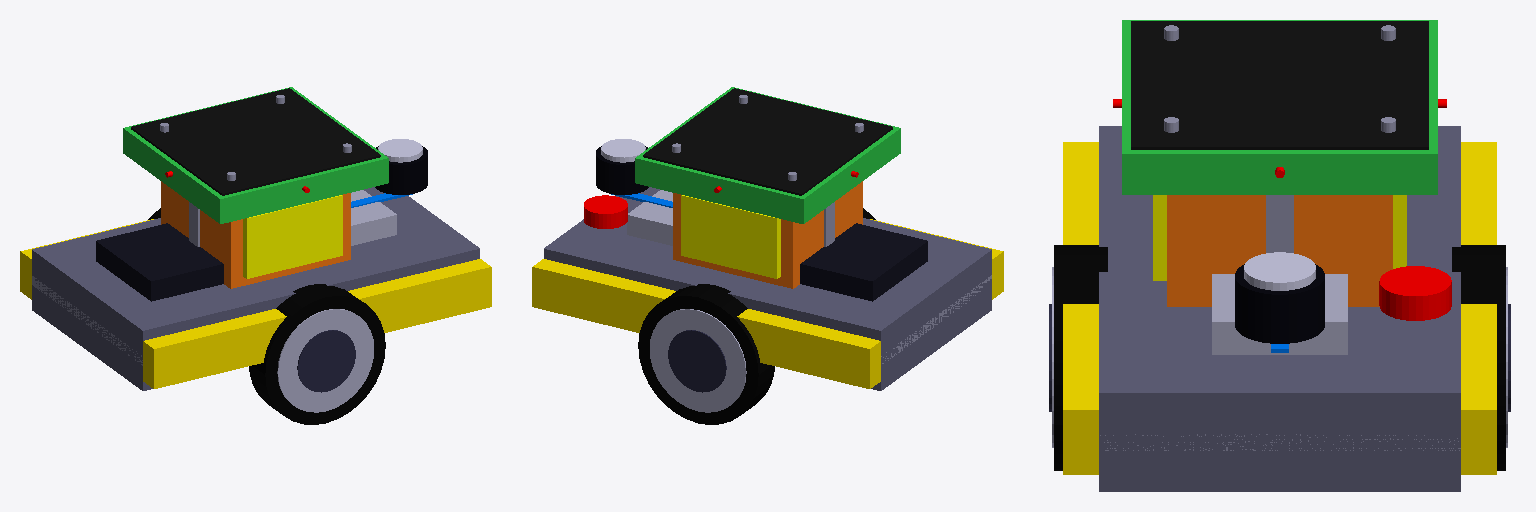
The robot description file, URDF, robot "wheeled_robot":
<?xml version="1.0"?>
<robot name="wheeled_robot">

  <!-- Industrial Base Platform with Advanced Features -->
  <link name="base_link">
    <!-- Main chassis structure -->
    <visual>
      <origin xyz="0 0 0.06" rpy="0 0 0"/>
      <geometry>
        <box size="0.7 0.4 0.12"/>
      </geometry>
      <material name="chassis_industrial">
        <color rgba="0.4 0.4 0.5 1.0"/>
      </material>
    </visual>
    
    <!-- Reinforcement frame -->
    <visual>
      <origin xyz="0.32 0 0.06" rpy="0 0 0"/>
      <geometry>
        <box size="0.06 0.4 0.02"/>
      </geometry>
      <material name="frame_steel">
        <color rgba="0.6 0.6 0.7 1.0"/>
      </material>
    </visual>
    
    <visual>
      <origin xyz="-0.32 0 0.06" rpy="0 0 0"/>
      <geometry>
        <box size="0.06 0.4 0.02"/>
      </geometry>
      <material name="frame_steel">
        <color rgba="0.6 0.6 0.7 1.0"/>
      </material>
    </visual>
    
    <!-- Side protection rails -->
    <visual>
      <origin xyz="0 0.22 0.06" rpy="0 0 0"/>
      <geometry>
        <box size="0.7 0.04 0.08"/>
      </geometry>
      <material name="safety_yellow">
        <color rgba="1.0 0.9 0.0 1.0"/>
      </material>
    </visual>
    
    <visual>
      <origin xyz="0 -0.22 0.06" rpy="0 0 0"/>
      <geometry>
        <box size="0.7 0.04 0.08"/>
      </geometry>
      <material name="safety_yellow">
        <color rgba="1.0 0.9 0.0 1.0"/>
      </material>
    </visual>
    
    <!-- Battery compartment -->
    <visual>
      <origin xyz="-0.15 0 0.14" rpy="0 0 0"/>
      <geometry>
        <box size="0.25 0.2 0.04"/>
      </geometry>
      <material name="battery_housing">
        <color rgba="0.1 0.1 0.15 1.0"/>
      </material>
    </visual>
    
    <!-- Control electronics housing -->
    <visual>
      <origin xyz="0.15 0 0.14" rpy="0 0 0"/>
      <geometry>
        <box size="0.2 0.15 0.04"/>
      </geometry>
      <material name="electronics_silver">
        <color rgba="0.7 0.7 0.8 1.0"/>
      </material>
    </visual>
    
    <!-- Status LED strip -->
    <visual>
      <origin xyz="0.25 0 0.16" rpy="0 0 0"/>
      <geometry>
        <box size="0.15 0.02 0.005"/>
      </geometry>
      <material name="led_strip_blue">
        <color rgba="0.0 0.5 1.0 1.0"/>
      </material>
    </visual>
    
    <collision>
      <origin xyz="0 0 0.06" rpy="0 0 0"/>
      <geometry>
        <box size="0.7 0.4 0.12"/>
      </geometry>
    </collision>
    <inertial>
      <origin xyz="0 0 0.06" rpy="0 0 0"/>
      <mass value="18.0"/>
      <inertia ixx="0.5" ixy="0" ixz="0" 
               iyy="1.2" iyz="0" 
               izz="1.5"/>
    </inertial>
  </link>

  <!-- Advanced Drive Wheels with Motor Integration -->
  <link name="left_wheel">
    <!-- Main tire with aggressive tread -->
    <visual>
      <origin xyz="0 0 0" rpy="1.57 0 0"/>
      <geometry>
        <cylinder radius="0.125" length="0.06"/>
      </geometry>
      <material name="tire_industrial">
        <color rgba="0.05 0.05 0.05 1.0"/>
      </material>
    </visual>
    
    <!-- Reinforced rim -->
    <visual>
      <origin xyz="0 0 0" rpy="1.57 0 0"/>
      <geometry>
        <cylinder radius="0.1" length="0.065"/>
      </geometry>
      <material name="rim_aluminum">
        <color rgba="0.7 0.7 0.8 1.0"/>
      </material>
    </visual>
    
    <!-- Hub motor housing -->
    <visual>
      <origin xyz="0 0 0" rpy="1.57 0 0"/>
      <geometry>
        <cylinder radius="0.06" length="0.07"/>
      </geometry>
      <material name="motor_housing">
        <color rgba="0.2 0.2 0.3 1.0"/>
      </material>
    </visual>
    
    <!-- Motor cooling fins -->
    <visual>
      <origin xyz="0 0 0.04" rpy="1.57 0 0"/>
      <geometry>
        <cylinder radius="0.08" length="0.005"/>
      </geometry>
      <material name="cooling_fins">
        <color rgba="0.5 0.5 0.6 1.0"/>
      </material>
    </visual>
    
    <visual>
      <origin xyz="0 0 -0.04" rpy="1.57 0 0"/>
      <geometry>
        <cylinder radius="0.08" length="0.005"/>
      </geometry>
      <material name="cooling_fins">
        <color rgba="0.5 0.5 0.6 1.0"/>
      </material>
    </visual>
    
    <!-- Wheel encoder -->
    <visual>
      <origin xyz="0 0 0.038" rpy="1.57 0 0"/>
      <geometry>
        <cylinder radius="0.04" length="0.008"/>
      </geometry>
      <material name="encoder_gold">
        <color rgba="0.8 0.7 0.2 1.0"/>
      </material>
    </visual>
    
    <collision>
      <origin xyz="0 0 0" rpy="1.57 0 0"/>
      <geometry>
        <cylinder radius="0.125" length="0.06"/>
      </geometry>
    </collision>
    <inertial>
      <origin xyz="0 0 0" rpy="0 0 0"/>
      <mass value="3.5"/>
      <inertia ixx="0.03" ixy="0" ixz="0" 
               iyy="0.03" iyz="0" 
               izz="0.03"/>
    </inertial>
  </link>

  <!-- Right wheel - identical to left -->
  <link name="right_wheel">
    <visual>
      <origin xyz="0 0 0" rpy="1.57 0 0"/>
      <geometry>
        <cylinder radius="0.125" length="0.06"/>
      </geometry>
      <material name="tire_industrial">
        <color rgba="0.05 0.05 0.05 1.0"/>
      </material>
    </visual>
    <visual>
      <origin xyz="0 0 0" rpy="1.57 0 0"/>
      <geometry>
        <cylinder radius="0.1" length="0.065"/>
      </geometry>
      <material name="rim_aluminum">
        <color rgba="0.7 0.7 0.8 1.0"/>
      </material>
    </visual>
    <visual>
      <origin xyz="0 0 0" rpy="1.57 0 0"/>
      <geometry>
        <cylinder radius="0.06" length="0.07"/>
      </geometry>
      <material name="motor_housing">
        <color rgba="0.2 0.2 0.3 1.0"/>
      </material>
    </visual>
    <visual>
      <origin xyz="0 0 0.04" rpy="1.57 0 0"/>
      <geometry>
        <cylinder radius="0.08" length="0.005"/>
      </geometry>
      <material name="cooling_fins">
        <color rgba="0.5 0.5 0.6 1.0"/>
      </material>
    </visual>
    <visual>
      <origin xyz="0 0 -0.04" rpy="1.57 0 0"/>
      <geometry>
        <cylinder radius="0.08" length="0.005"/>
      </geometry>
      <material name="cooling_fins">
        <color rgba="0.5 0.5 0.6 1.0"/>
      </material>
    </visual>
    <visual>
      <origin xyz="0 0 0.038" rpy="1.57 0 0"/>
      <geometry>
        <cylinder radius="0.04" length="0.008"/>
      </geometry>
      <material name="encoder_gold">
        <color rgba="0.8 0.7 0.2 1.0"/>
      </material>
    </visual>
    <collision>
      <origin xyz="0 0 0" rpy="1.57 0 0"/>
      <geometry>
        <cylinder radius="0.125" length="0.06"/>
      </geometry>
    </collision>
    <inertial>
      <origin xyz="0 0 0" rpy="0 0 0"/>
      <mass value="3.5"/>
      <inertia ixx="0.03" ixy="0" ixz="0" 
               iyy="0.03" iyz="0" 
               izz="0.03"/>
    </inertial>
  </link>

  <!-- Professional Lifting Mechanism Base -->
  <link name="lift_base">
    <!-- Main lift tower structure -->
    <visual>
      <origin xyz="0 0 0.08" rpy="0 0 0"/>
      <geometry>
        <box size="0.25 0.25 0.16"/>
      </geometry>
      <material name="lift_orange">
        <color rgba="1.0 0.5 0.1 1.0"/>
      </material>
    </visual>
    
    <!-- Hydraulic cylinder housings -->
    <visual>
      <origin xyz="0.08 0.08 0.08" rpy="0 0 0"/>
      <geometry>
        <cylinder radius="0.025" length="0.16"/>
      </geometry>
      <material name="hydraulic_steel">
        <color rgba="0.4 0.4 0.5 1.0"/>
      </material>
    </visual>
    
    <visual>
      <origin xyz="-0.08 0.08 0.08" rpy="0 0 0"/>
      <geometry>
        <cylinder radius="0.025" length="0.16"/>
      </geometry>
      <material name="hydraulic_steel">
        <color rgba="0.4 0.4 0.5 1.0"/>
      </material>
    </visual>
    
    <visual>
      <origin xyz="0.08 -0.08 0.08" rpy="0 0 0"/>
      <geometry>
        <cylinder radius="0.025" length="0.16"/>
      </geometry>
      <material name="hydraulic_steel">
        <color rgba="0.4 0.4 0.5 1.0"/>
      </material>
    </visual>
    
    <visual>
      <origin xyz="-0.08 -0.08 0.08" rpy="0 0 0"/>
      <geometry>
        <cylinder radius="0.025" length="0.16"/>
      </geometry>
      <material name="hydraulic_steel">
        <color rgba="0.4 0.4 0.5 1.0"/>
      </material>
    </visual>
    
    <!-- Guide rails -->
    <visual>
      <origin xyz="0.12 0 0.08" rpy="0 0 0"/>
      <geometry>
        <box size="0.02 0.03 0.16"/>
      </geometry>
      <material name="guide_rail">
        <color rgba="0.6 0.6 0.7 1.0"/>
      </material>
    </visual>
    
    <visual>
      <origin xyz="-0.12 0 0.08" rpy="0 0 0"/>
      <geometry>
        <box size="0.02 0.03 0.16"/>
      </geometry>
      <material name="guide_rail">
        <color rgba="0.6 0.6 0.7 1.0"/>
      </material>
    </visual>
    
    <!-- Safety markings -->
    <visual>
      <origin xyz="0 0.13 0.08" rpy="0 0 0"/>
      <geometry>
        <box size="0.2 0.02 0.12"/>
      </geometry>
      <material name="safety_stripe">
        <color rgba="1.0 1.0 0.0 1.0"/>
      </material>
    </visual>
    
    <visual>
      <origin xyz="0 -0.13 0.08" rpy="0 0 0"/>
      <geometry>
        <box size="0.2 0.02 0.12"/>
      </geometry>
      <material name="safety_stripe">
        <color rgba="1.0 1.0 0.0 1.0"/>
      </material>
    </visual>
    
    <collision>
      <origin xyz="0 0 0.08" rpy="0 0 0"/>
      <geometry>
        <box size="0.25 0.25 0.16"/>
      </geometry>
    </collision>
    <inertial>
      <origin xyz="0 0 0.08" rpy="0 0 0"/>
      <mass value="8.5"/>
      <inertia ixx="0.08" ixy="0" ixz="0" 
               iyy="0.08" iyz="0" 
               izz="0.12"/>
    </inertial>
  </link>

  <!-- Advanced Lifting Platform -->
  <link name="lift_platform">
    <!-- Main platform deck -->
    <visual>
      <origin xyz="0 0 0.025" rpy="0 0 0"/>
      <geometry>
        <box size="0.35 0.35 0.05"/>
      </geometry>
      <material name="platform_green">
        <color rgba="0.2 0.8 0.3 1.0"/>
      </material>
    </visual>
    
    <!-- Anti-slip surface pattern -->
    <visual>
      <origin xyz="0 0 0.052" rpy="0 0 0"/>
      <geometry>
        <box size="0.33 0.33 0.004"/>
      </geometry>
      <material name="anti_slip">
        <color rgba="0.1 0.1 0.1 1.0"/>
      </material>
    </visual>
    
    <!-- Load securing points -->
    <visual>
      <origin xyz="0.12 0.12 0.06" rpy="0 0 0"/>
      <geometry>
        <cylinder radius="0.008" length="0.012"/>
      </geometry>
      <material name="tie_down">
        <color rgba="0.6 0.6 0.7 1.0"/>
      </material>
    </visual>
    
    <visual>
      <origin xyz="-0.12 0.12 0.06" rpy="0 0 0"/>
      <geometry>
        <cylinder radius="0.008" length="0.012"/>
      </geometry>
      <material name="tie_down">
        <color rgba="0.6 0.6 0.7 1.0"/>
      </material>
    </visual>
    
    <visual>
      <origin xyz="0.12 -0.12 0.06" rpy="0 0 0"/>
      <geometry>
        <cylinder radius="0.008" length="0.012"/>
      </geometry>
      <material name="tie_down">
        <color rgba="0.6 0.6 0.7 1.0"/>
      </material>
    </visual>
    
    <visual>
      <origin xyz="-0.12 -0.12 0.06" rpy="0 0 0"/>
      <geometry>
        <cylinder radius="0.008" length="0.012"/>
      </geometry>
      <material name="tie_down">
        <color rgba="0.6 0.6 0.7 1.0"/>
      </material>
    </visual>
    
    <!-- Hydraulic pistons -->
    <visual>
      <origin xyz="0.08 0.08 -0.05" rpy="0 0 0"/>
      <geometry>
        <cylinder radius="0.015" length="0.1"/>
      </geometry>
      <material name="piston_chrome">
        <color rgba="0.8 0.8 0.9 1.0"/>
      </material>
    </visual>
    
    <visual>
      <origin xyz="-0.08 0.08 -0.05" rpy="0 0 0"/>
      <geometry>
        <cylinder radius="0.015" length="0.1"/>
      </geometry>
      <material name="piston_chrome">
        <color rgba="0.8 0.8 0.9 1.0"/>
      </material>
    </visual>
    
    <visual>
      <origin xyz="0.08 -0.08 -0.05" rpy="0 0 0"/>
      <geometry>
        <cylinder radius="0.015" length="0.1"/>
      </geometry>
      <material name="piston_chrome">
        <color rgba="0.8 0.8 0.9 1.0"/>
      </material>
    </visual>
    
    <visual>
      <origin xyz="-0.08 -0.08 -0.05" rpy="0 0 0"/>
      <geometry>
        <cylinder radius="0.015" length="0.1"/>
      </geometry>
      <material name="piston_chrome">
        <color rgba="0.8 0.8 0.9 1.0"/>
      </material>
    </visual>
    
    <!-- Safety perimeter lighting -->
    <visual>
      <origin xyz="0.18 0 0.03" rpy="0 1.57 0"/>
      <geometry>
        <cylinder radius="0.005" length="0.01"/>
      </geometry>
      <material name="safety_led">
        <color rgba="1.0 0.0 0.0 1.0"/>
      </material>
    </visual>
    
    <visual>
      <origin xyz="-0.18 0 0.03" rpy="0 1.57 0"/>
      <geometry>
        <cylinder radius="0.005" length="0.01"/>
      </geometry>
      <material name="safety_led">
        <color rgba="1.0 0.0 0.0 1.0"/>
      </material>
    </visual>
    
    <visual>
      <origin xyz="0 0.18 0.03" rpy="1.57 0 0"/>
      <geometry>
        <cylinder radius="0.005" length="0.01"/>
      </geometry>
      <material name="safety_led">
        <color rgba="1.0 0.0 0.0 1.0"/>
      </material>
    </visual>
    
    <visual>
      <origin xyz="0 -0.18 0.03" rpy="1.57 0 0"/>
      <geometry>
        <cylinder radius="0.005" length="0.01"/>
      </geometry>
      <material name="safety_led">
        <color rgba="1.0 0.0 0.0 1.0"/>
      </material>
    </visual>
    
    <collision>
      <origin xyz="0 0 0.025" rpy="0 0 0"/>
      <geometry>
        <box size="0.35 0.35 0.05"/>
      </geometry>
    </collision>
    <inertial>
      <origin xyz="0 0 0.025" rpy="0 0 0"/>
      <mass value="4.5"/>
      <inertia ixx="0.06" ixy="0" ixz="0" 
               iyy="0.06" iyz="0" 
               izz="0.1"/>
    </inertial>
  </link>

  <!-- Advanced Sensor Package -->
  <link name="laser_scanner">
    <visual>
      <origin xyz="0 0 0.03" rpy="0 0 0"/>
      <geometry>
        <cylinder radius="0.05" length="0.06"/>
      </geometry>
      <material name="lidar_black">
        <color rgba="0.05 0.05 0.08 1.0"/>
      </material>
    </visual>
    
    <!-- Spinning assembly -->
    <visual>
      <origin xyz="0 0 0.065" rpy="0 0 0"/>
      <geometry>
        <cylinder radius="0.04" length="0.01"/>
      </geometry>
      <material name="lidar_mirror">
        <color rgba="0.8 0.8 0.9 1.0"/>
      </material>
    </visual>
    
    <collision>
      <origin xyz="0 0 0.03" rpy="0 0 0"/>
      <geometry>
        <cylinder radius="0.05" length="0.06"/>
      </geometry>
    </collision>
    <inertial>
      <origin xyz="0 0 0.03" rpy="0 0 0"/>
      <mass value="0.8"/>
      <inertia ixx="0.002" ixy="0" ixz="0" 
               iyy="0.002" iyz="0" 
               izz="0.002"/>
    </inertial>
  </link>

  <!-- Emergency Stop System -->
  <link name="emergency_stop">
    <visual>
      <origin xyz="0 0 0.015" rpy="0 0 0"/>
      <geometry>
        <cylinder radius="0.04" length="0.03"/>
      </geometry>
      <material name="emergency_red">
        <color rgba="1.0 0.0 0.0 1.0"/>
      </material>
    </visual>
    
    <collision>
      <origin xyz="0 0 0.015" rpy="0 0 0"/>
      <geometry>
        <cylinder radius="0.04" length="0.03"/>
      </geometry>
    </collision>
    <inertial>
      <origin xyz="0 0 0.015" rpy="0 0 0"/>
      <mass value="0.1"/>
      <inertia ixx="0.0001" ixy="0" ixz="0" 
               iyy="0.0001" iyz="0" 
               izz="0.0001"/>
    </inertial>
  </link>

  <!-- JOINTS SECTION -->

  <!-- High-Performance Wheel Joints -->
  <joint name="left_wheel_joint" type="continuous">
    <parent link="base_link"/>
    <child link="left_wheel"/>
    <origin xyz="0 0.22 0" rpy="0 0 0"/>
    <axis xyz="0 1 0"/>
    <dynamics damping="0.3" friction="0.2"/>
  </joint>

  <joint name="right_wheel_joint" type="continuous">
    <parent link="base_link"/>
    <child link="right_wheel"/>
    <origin xyz="0 -0.22 0" rpy="0 0 0"/>
    <axis xyz="0 1 0"/>
    <dynamics damping="0.3" friction="0.2"/>
  </joint>

  <!-- Lift Base Mount -->
  <joint name="lift_base_joint" type="fixed">
    <parent link="base_link"/>
    <child link="lift_base"/>
    <origin xyz="0 0 0.12" rpy="0 0 0"/>
  </joint>

  <!-- Professional Lifting System -->
  <joint name="lift_joint" type="prismatic">
    <parent link="lift_base"/>
    <child link="lift_platform"/>
    <origin xyz="0 0 0.16" rpy="0 0 0"/>
    <axis xyz="0 0 1"/>
    <limit lower="0" upper="0.5" effort="500" velocity="0.8"/>
    <dynamics damping="0.5" friction="0.3"/>
  </joint>

  <!-- Sensor Mounts -->
  <joint name="laser_scanner_joint" type="fixed">
    <parent link="base_link"/>
    <child link="laser_scanner"/>
    <origin xyz="0.3 0 0.18" rpy="0 0 0"/>
  </joint>

  <joint name="emergency_stop_joint" type="fixed">
    <parent link="base_link"/>
    <child link="emergency_stop"/>
    <origin xyz="0.25 0.15 0.18" rpy="0 0 0"/>
  </joint>

</robot>

--- Render facts (derived) ---
3 views of the same robot in one strip: view 1: azimuth 30°, elevation 25°; view 2: azimuth 150°, elevation 25°; view 3: azimuth 270°, elevation 25° (orthographic).
Model wheeled_robot with 7 links and 6 joints (2 continuous, 1 prismatic, 3 fixed), rooted at base_link, posed every joint at zero.
Links seen in each view (by area): view 1: base_link, lift_platform, right_wheel, lift_base, laser_scanner; view 2: base_link, lift_platform, left_wheel, lift_base, laser_scanner, emergency_stop; view 3: base_link, lift_platform, lift_base, laser_scanner, left_wheel, right_wheel, emergency_stop.
Link boxes in pixels (x1,y1,x2,y2): base_link: (20, 187, 491, 390); lift_platform: (123, 87, 388, 223); right_wheel: (249, 284, 385, 424); lift_base: (161, 181, 350, 288); laser_scanner: (375, 139, 427, 194); base_link: (532, 187, 1003, 390); lift_platform: (635, 87, 900, 223); left_wheel: (638, 284, 774, 424); lift_base: (673, 181, 862, 288); laser_scanner: (596, 139, 648, 194); emergency_stop: (584, 195, 627, 228); base_link: (1063, 126, 1496, 491); lift_platform: (1113, 20, 1446, 194); lift_base: (1153, 195, 1406, 306); laser_scanner: (1235, 252, 1324, 343); left_wheel: (1452, 245, 1510, 470); right_wheel: (1049, 245, 1107, 470); emergency_stop: (1379, 266, 1451, 320).
Bounding box of the posed robot: 0.7 × 0.5101 × 0.471 m (x, y, z).
Geometry: primitives only (box / cylinder / sphere), no mesh files.